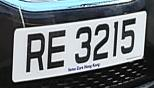1: (110, 18, 121, 59)
2: (93, 21, 111, 62)
3: (73, 26, 93, 68)
5: (119, 14, 137, 58)
E: (46, 26, 68, 74)
R: (23, 26, 48, 78)
